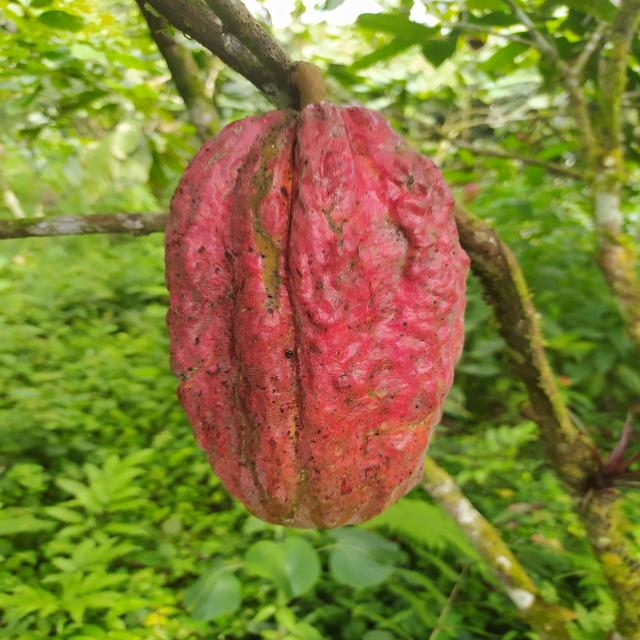Sana: (161, 100, 475, 529)
